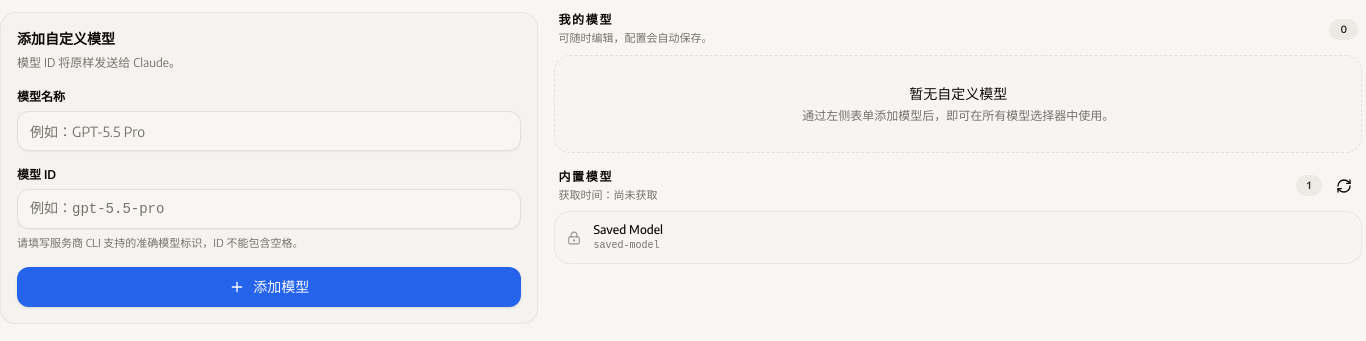
Test case: failed refresh keeps existing rows and exposes the failure
What coordinates should you click on to do the following:
click the button named "刷新模型"
I would click on:
 (1344, 186)
Its box is x1=1330 y1=172 x2=1358 y2=200.
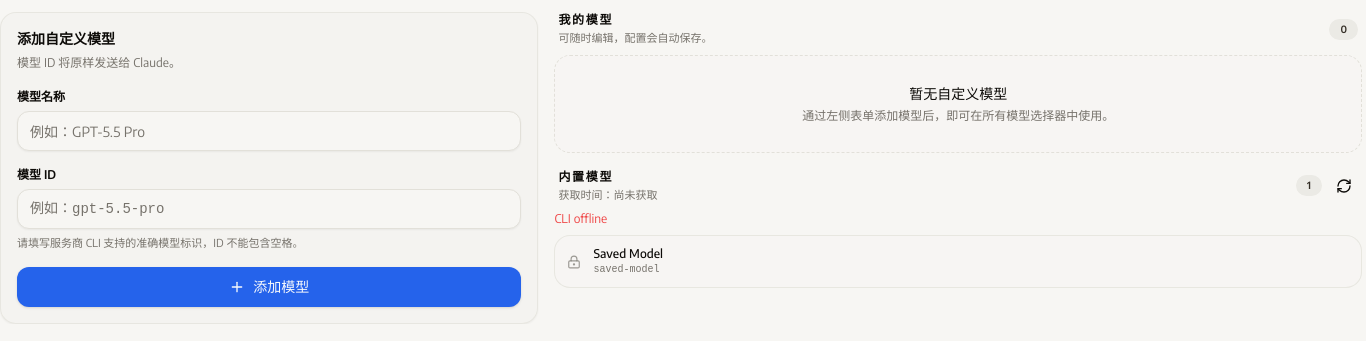
Expected: the text "Saved Model" is shown, x1=593 y1=246 x2=663 y2=261
Result: the message reads "CLI offline" at x1=554 y1=211 x2=607 y2=226
